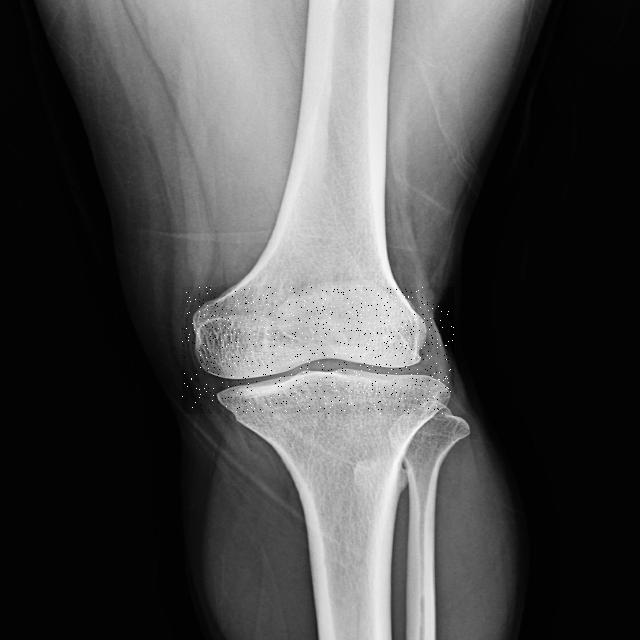normal: (182, 287, 454, 414)
